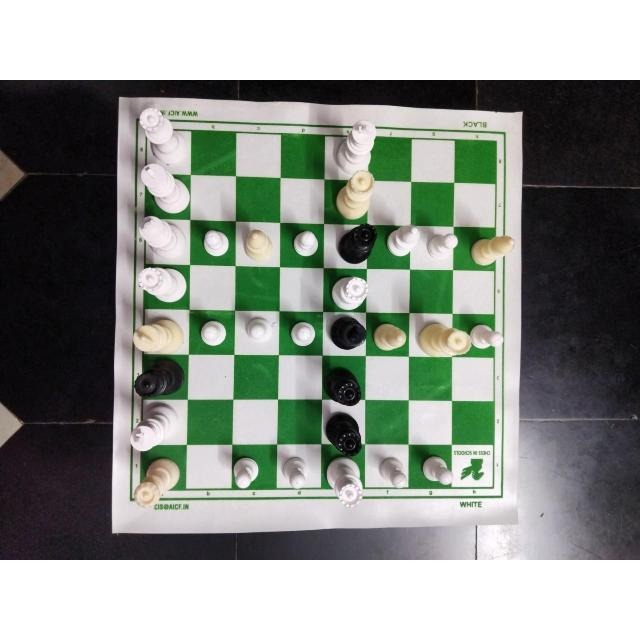black-king: (328, 313, 367, 351)
black-queen: (132, 362, 188, 398), (326, 359, 362, 409), (323, 412, 365, 454), (337, 225, 377, 263)
white-bishop: (371, 312, 409, 357), (470, 232, 516, 266), (388, 221, 417, 260), (243, 229, 273, 259)
white-king: (138, 162, 190, 212), (133, 310, 183, 356), (138, 215, 187, 260), (131, 409, 180, 451), (338, 122, 376, 170)
white-pawn: (467, 317, 506, 359), (375, 451, 413, 490), (425, 230, 461, 266), (280, 452, 312, 491), (419, 454, 454, 489), (200, 226, 232, 264), (233, 451, 261, 491), (290, 226, 318, 262), (200, 313, 228, 347), (289, 317, 315, 352), (247, 312, 273, 344)
white-queen: (130, 459, 182, 509), (418, 313, 470, 358), (321, 464, 365, 508), (139, 264, 188, 303), (336, 172, 375, 217), (332, 271, 372, 312)
